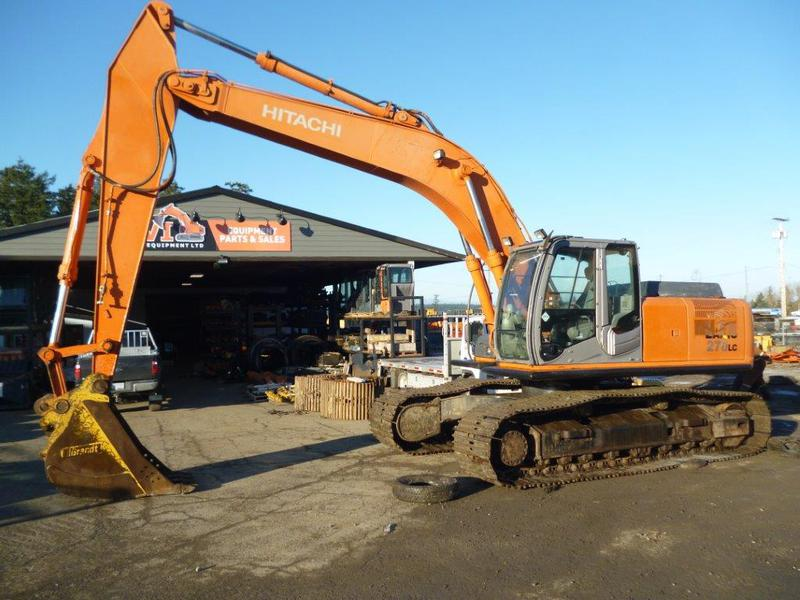shovel: (39, 3, 771, 503)
